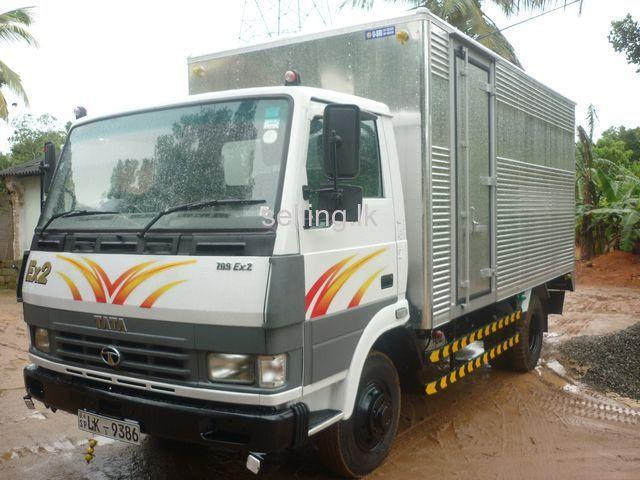truck: (17, 6, 576, 480)
